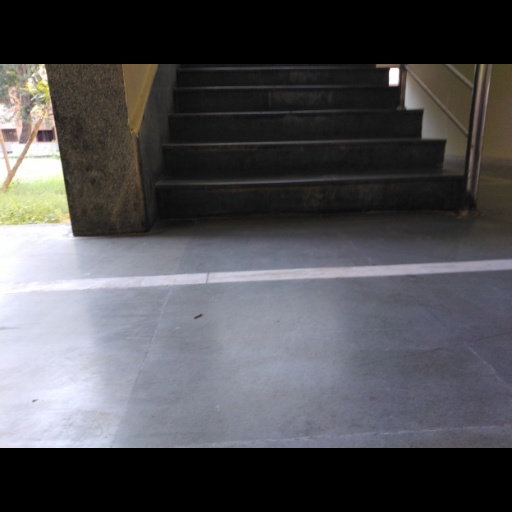Stairs: (156, 66, 464, 219)
